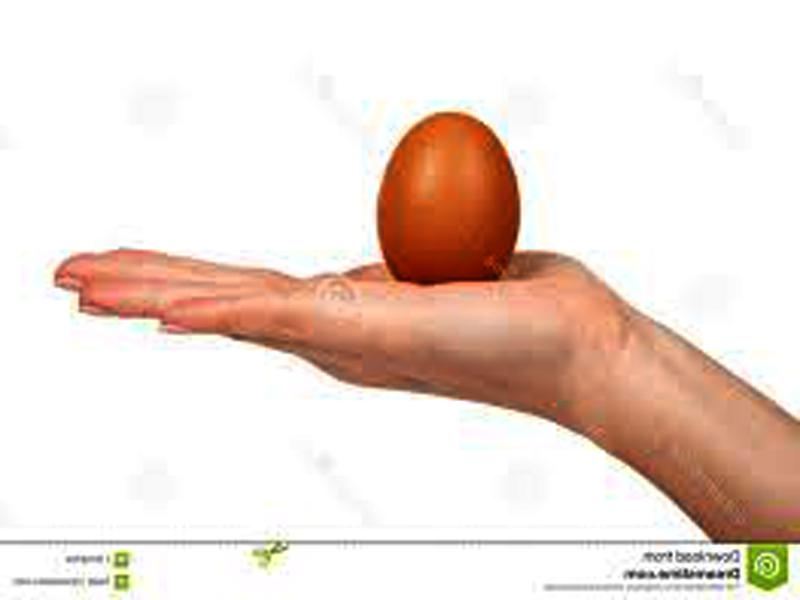Eggs: (376, 112, 516, 288)
